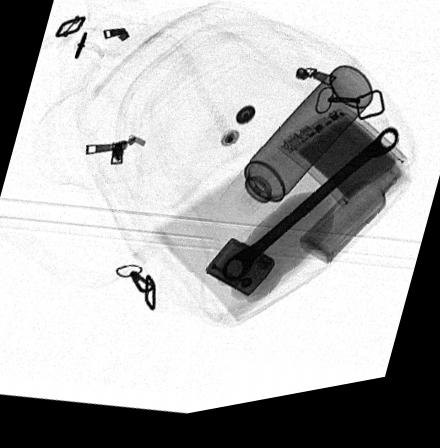Lighter: (205, 245, 277, 306)
Powerbank: (274, 116, 407, 220)
Sprayer: (218, 77, 372, 237)
